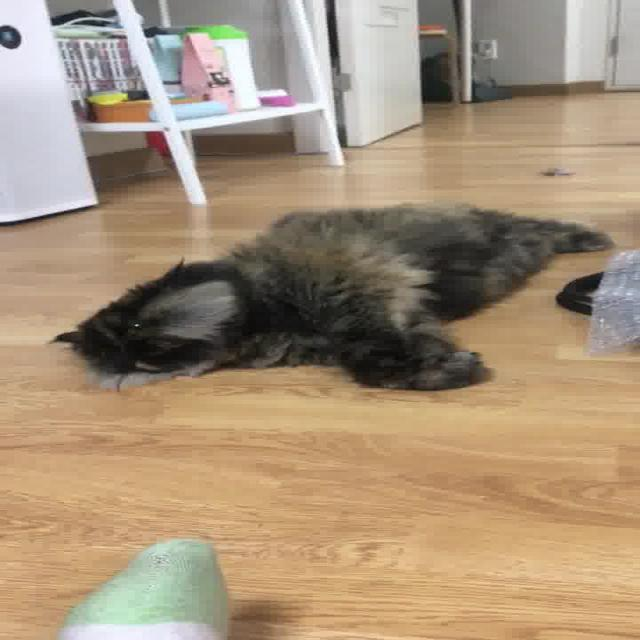cat: (43, 197, 622, 397)
